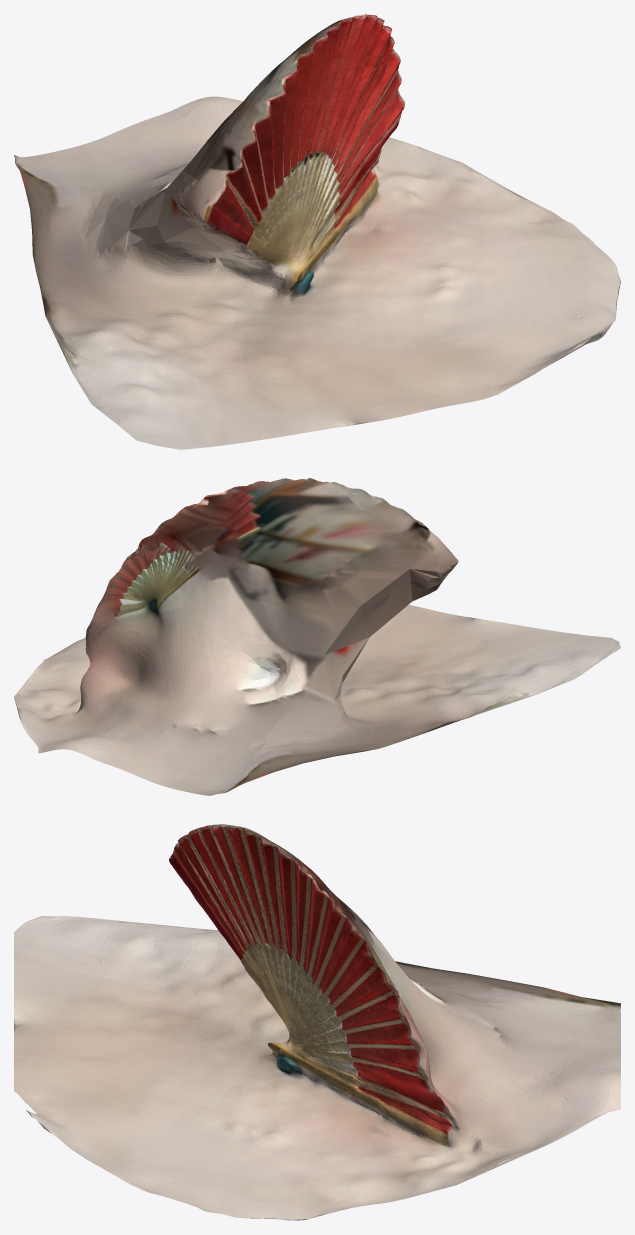
File: Folding Fan.glb
3 renders of one model, top to bottom at view 1: azimuth 30°, elevation 25°; view 2: azimuth 150°, elevation 25°; view 3: azimuth 270°, elevation 25°, orthographic. The views are drawn at different scales.
Size of the model in its own units: 1.02 by 0.4708 by 1.01.
1 material, 1 textured.
